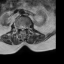CCS_normal: (21, 24, 23, 32)
LFS_normal: (25, 23, 27, 30)
LLS_normal: (23, 24, 25, 30)
RFS_stenosis: (17, 24, 19, 30)
RLS_normal: (19, 23, 21, 30)
